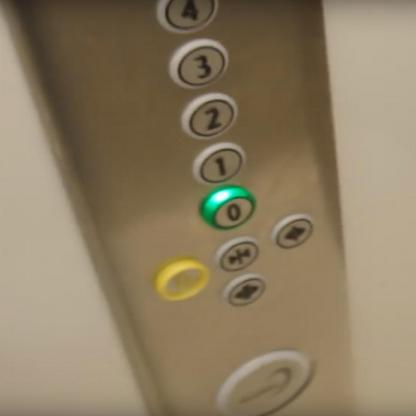0: (197, 184, 258, 232)
1: (192, 141, 246, 186)
2: (180, 92, 237, 139)
3: (168, 38, 227, 90)
4: (156, 0, 217, 34)
blur: (151, 256, 210, 303)
close: (214, 234, 262, 272)
open: (271, 212, 318, 249), (221, 274, 268, 308)
